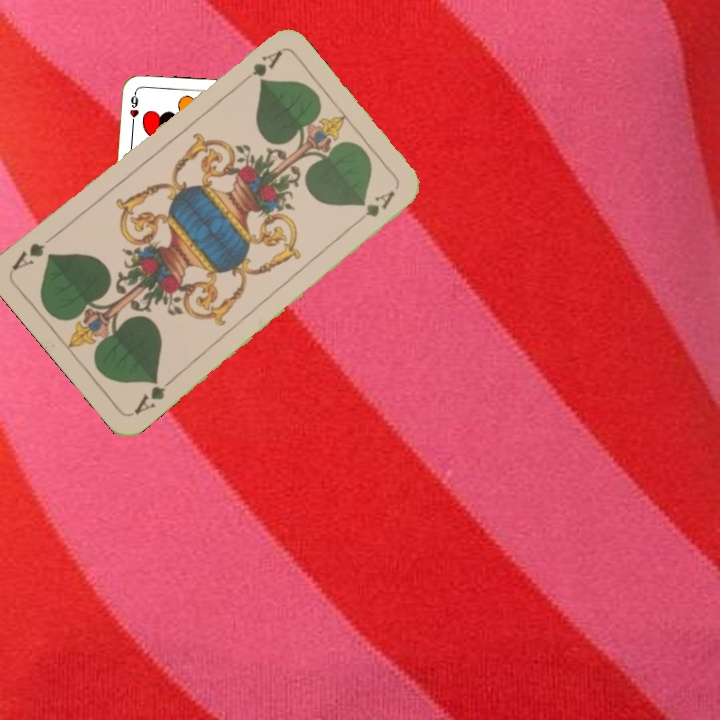GA: (130, 372, 178, 418), (234, 46, 285, 89)
H9: (125, 89, 141, 129)
